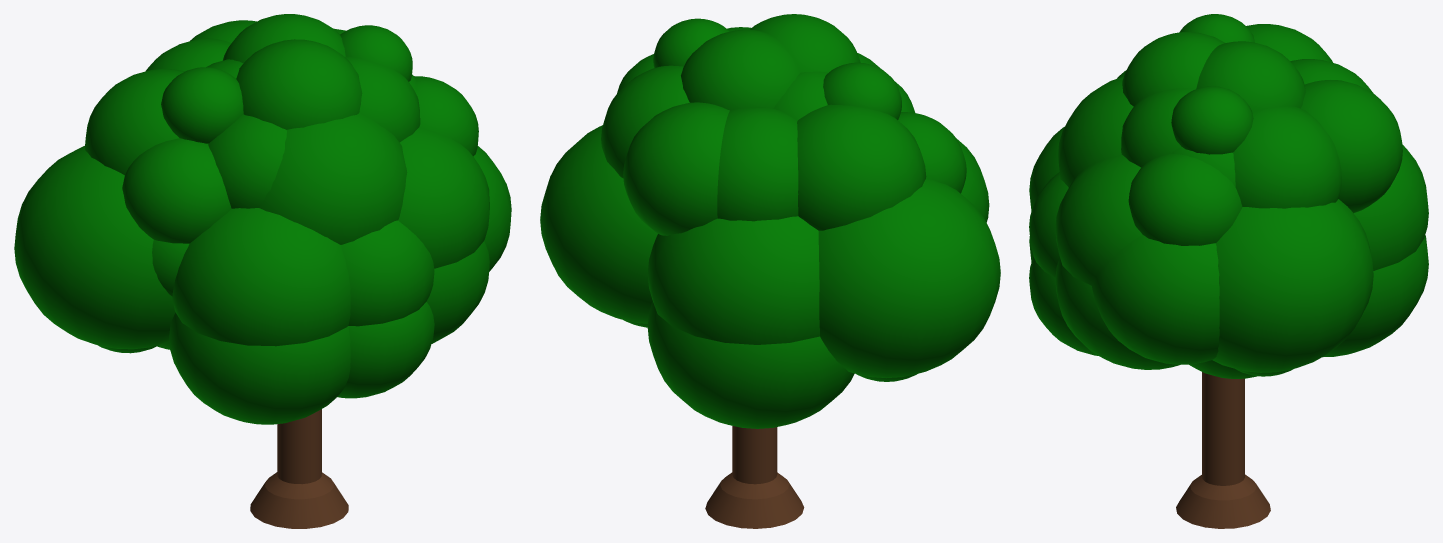
File: arbolgrande.fbx
The picture shows the model from 3 angles, left to right: view 1: azimuth 30°, elevation 25°; view 2: azimuth 150°, elevation 25°; view 3: azimuth 270°, elevation 25°; orthographic projection. The views are drawn at different scales.
Visible parts, largest first — view 1: Grande3; view 2: Grande3; view 3: Grande3.
Part boxes in pixels (box(x1,y1,x2,y2)): Grande3: box(14, 14, 511, 528); Grande3: box(540, 14, 1000, 528); Grande3: box(1029, 14, 1428, 528).
Bounding box in the file's own units: 1190 × 1273 × 1002.
